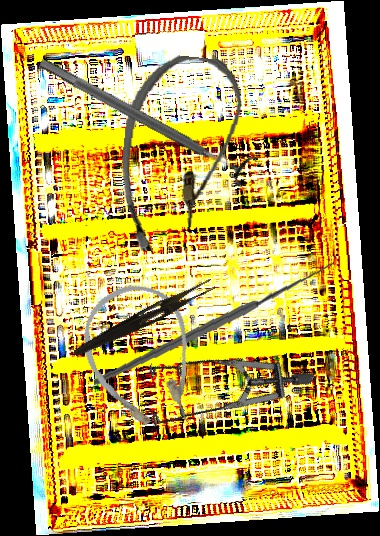Cannula: (112, 50, 247, 260), (68, 272, 215, 447)
Dressing Forceps: (71, 273, 217, 364)
Fixation Ring: (31, 45, 260, 191)
Hook Surgical: (93, 232, 335, 403)
Speculum: (125, 306, 316, 482)
